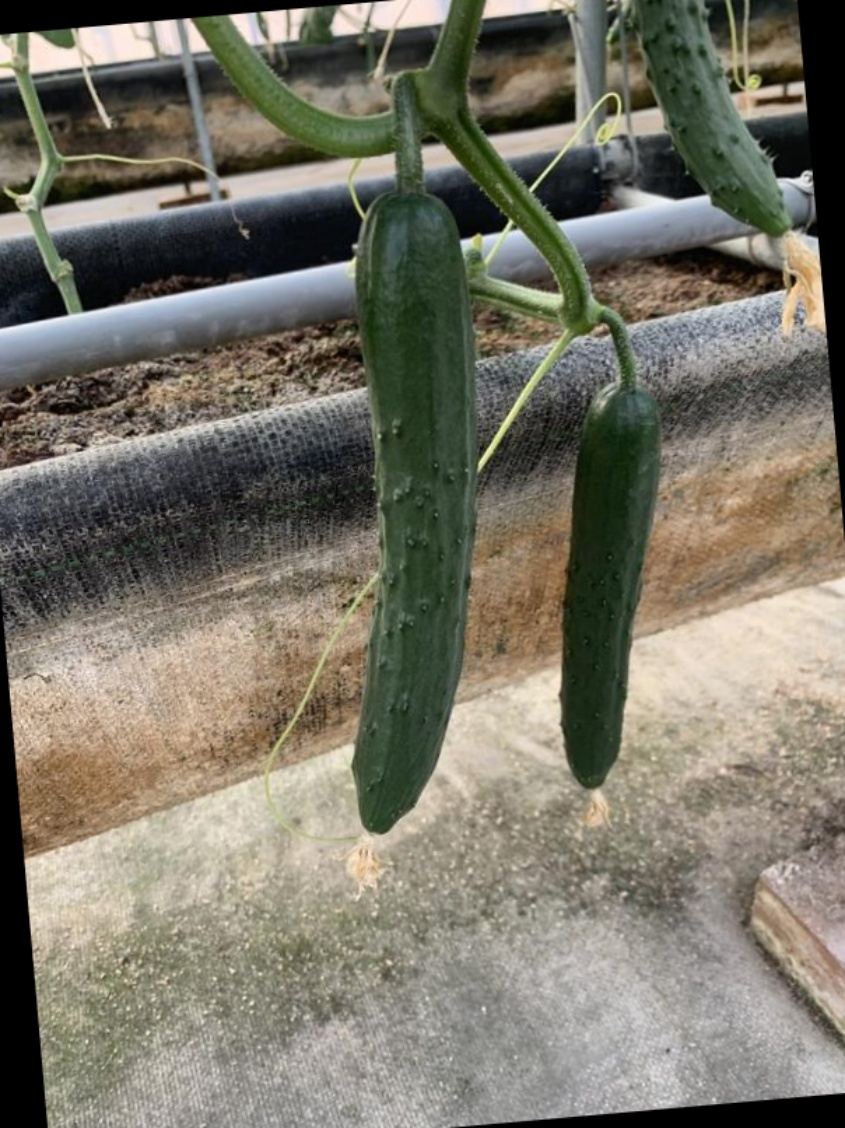mature: (345, 234, 490, 824), (551, 375, 671, 803)
